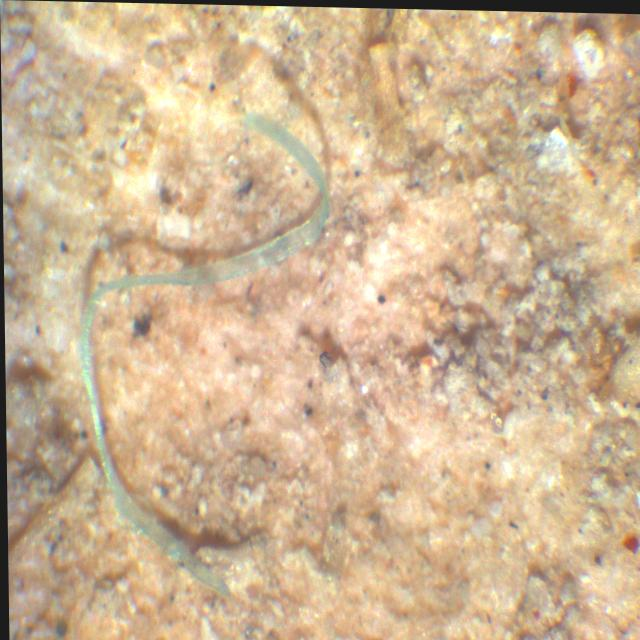microplastic: (18, 143, 334, 597), (243, 100, 340, 198)
